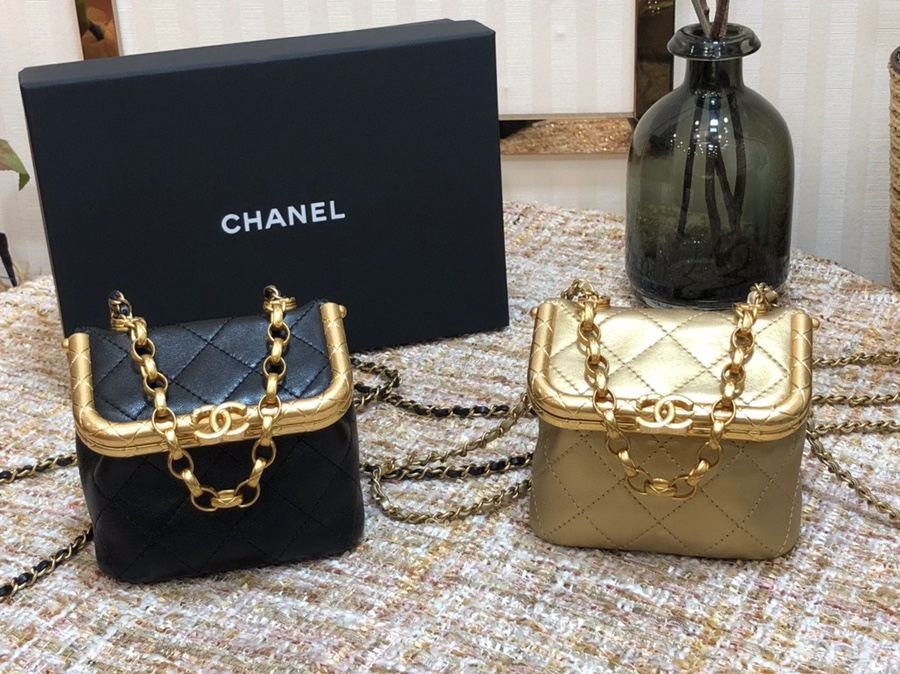channel: (57, 314, 402, 570), (529, 289, 817, 565), (623, 385, 711, 448), (192, 398, 270, 458)
